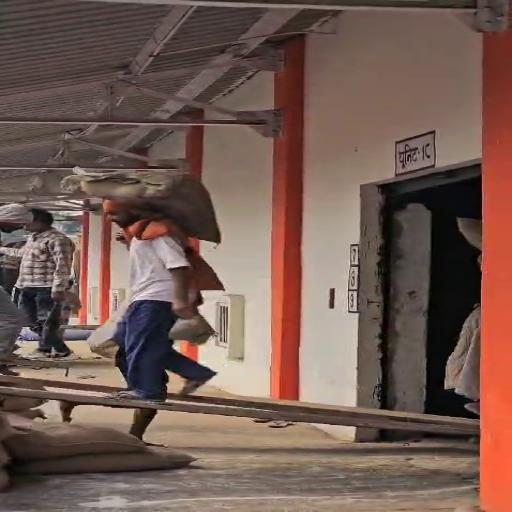bag: (70, 163, 234, 247)
